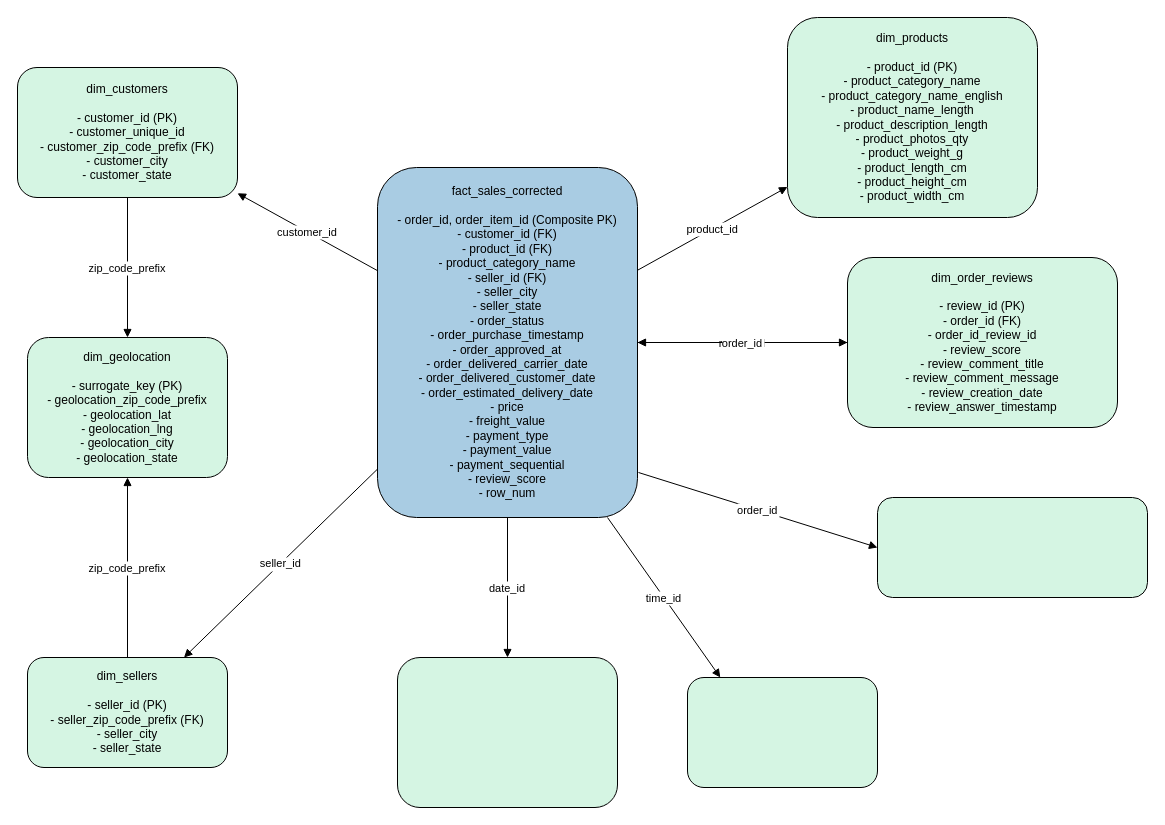
The diagram is 1165 pixels wide and 825 high, and some of its shapes have lost their labels. The shapes that lost their labels are listed below. From the top down, each one's box as (x1, y1, x2, y2) in pixels, then its label:
(876, 496, 1148, 598): dim_payments - order_id (FK) - payment_type - payment_installments
(396, 656, 618, 808): dim_date - date_id (PK) - year - month - day - day_name - month_name
(686, 676, 878, 788): dim_time - time_id (PK) - hour - minute - time_hhmm
